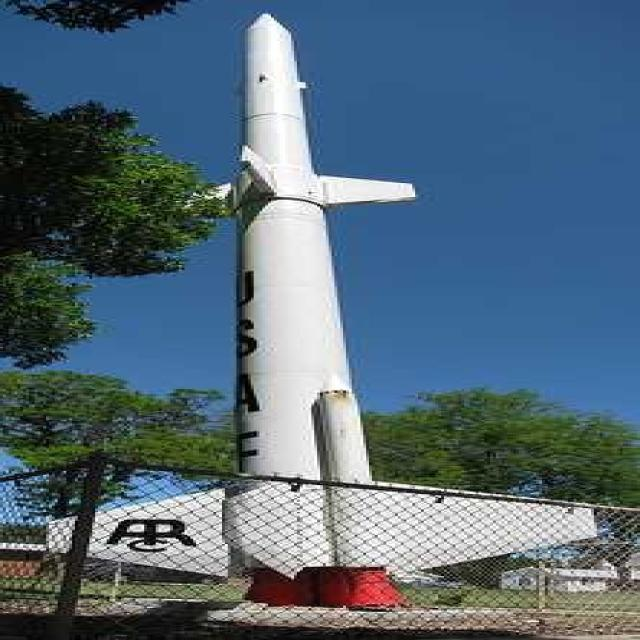missile: (96, 11, 540, 607)
